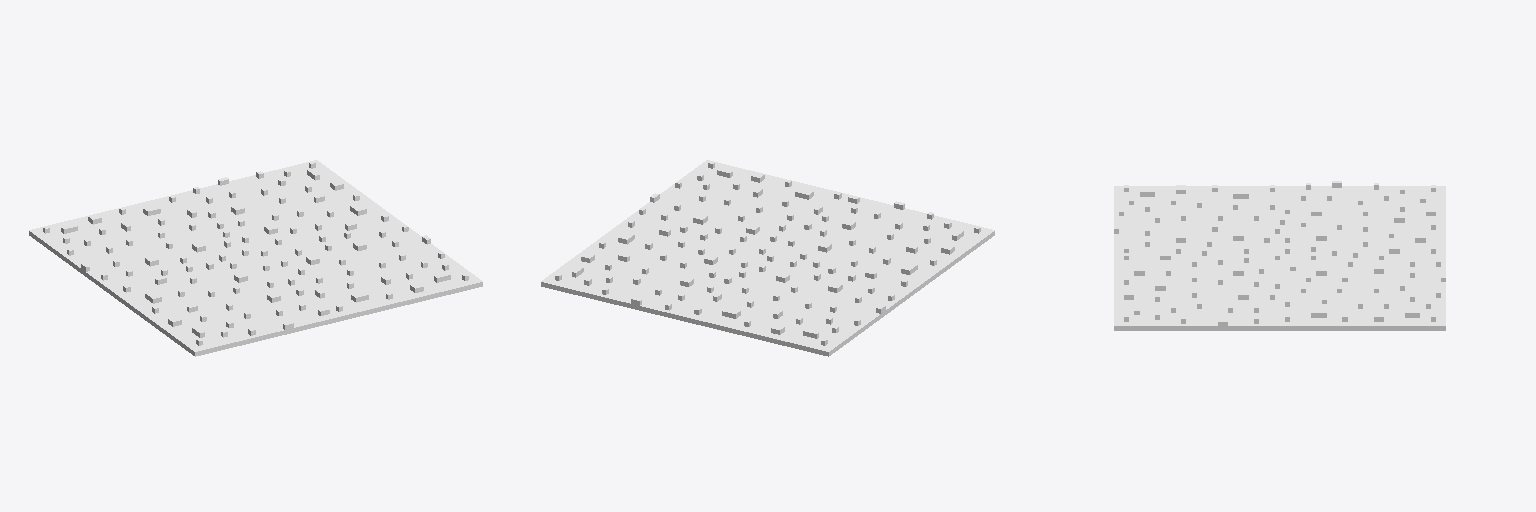
File: Transition_0.obj
3 views of the same model, side by side, from view 1: azimuth 30°, elevation 25°; view 2: azimuth 150°, elevation 25°; view 3: azimuth 270°, elevation 25° (orthographic).
Visible parts, largest first — view 1: Transition_0; view 2: Transition_0; view 3: Transition_0.
Part boxes in pixels (left/top/right/bottom): Transition_0: left=29, top=160, right=482, bottom=356; Transition_0: left=541, top=160, right=994, bottom=356; Transition_0: left=1114, top=181, right=1445, bottom=330.
Size of the model in its own units: 1 by 0.0312 by 1.